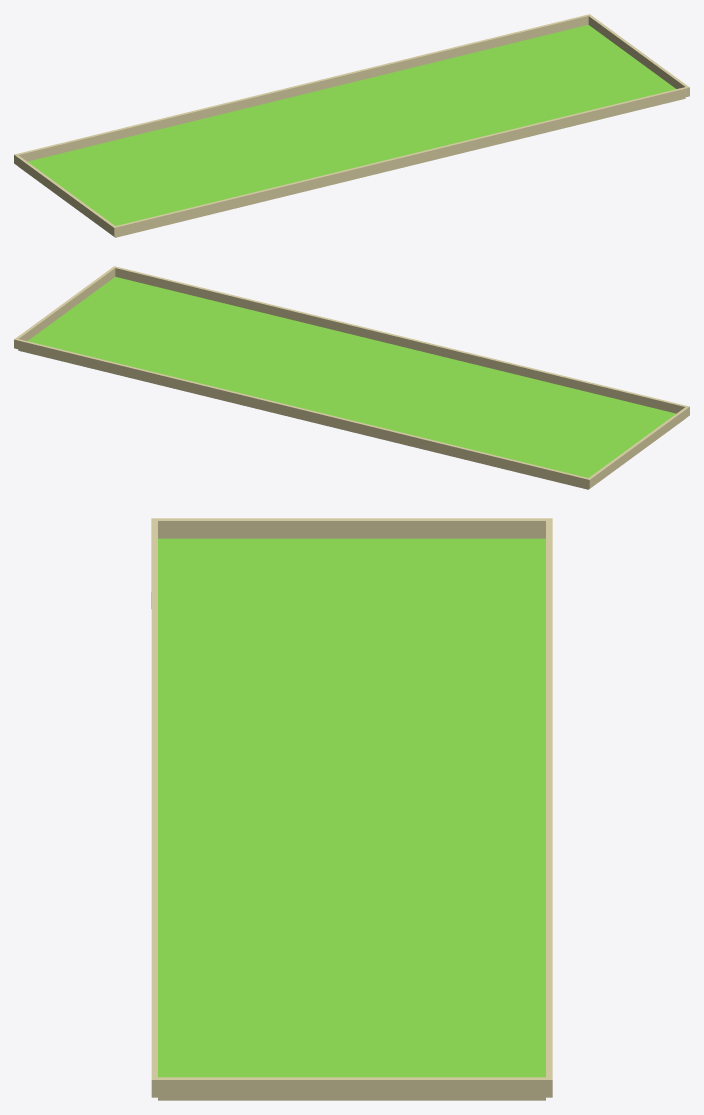
Rendered from study_course_2.fbx.
The picture shows the model from 3 angles, top to bottom: view 1: azimuth 30°, elevation 25°; view 2: azimuth 150°, elevation 25°; view 3: azimuth 270°, elevation 25°; orthographic projection. The views are drawn at different scales.
Parts seen in each view (by area): view 1: t1.005, t1_walls.004; view 2: t1.005, t1_walls.004; view 3: t1.005, t1_walls.004.
Boxes of the visible parts, <box> form: t1.005: <box>19,25,685,237</box>; t1_walls.004: <box>14,14,689,236</box>; t1.005: <box>18,277,684,489</box>; t1_walls.004: <box>14,266,689,488</box>; t1.005: <box>158,538,545,1100</box>; t1_walls.004: <box>151,518,552,1097</box>.
Size of the model in its own units: 1028 by 20.01 by 310.
